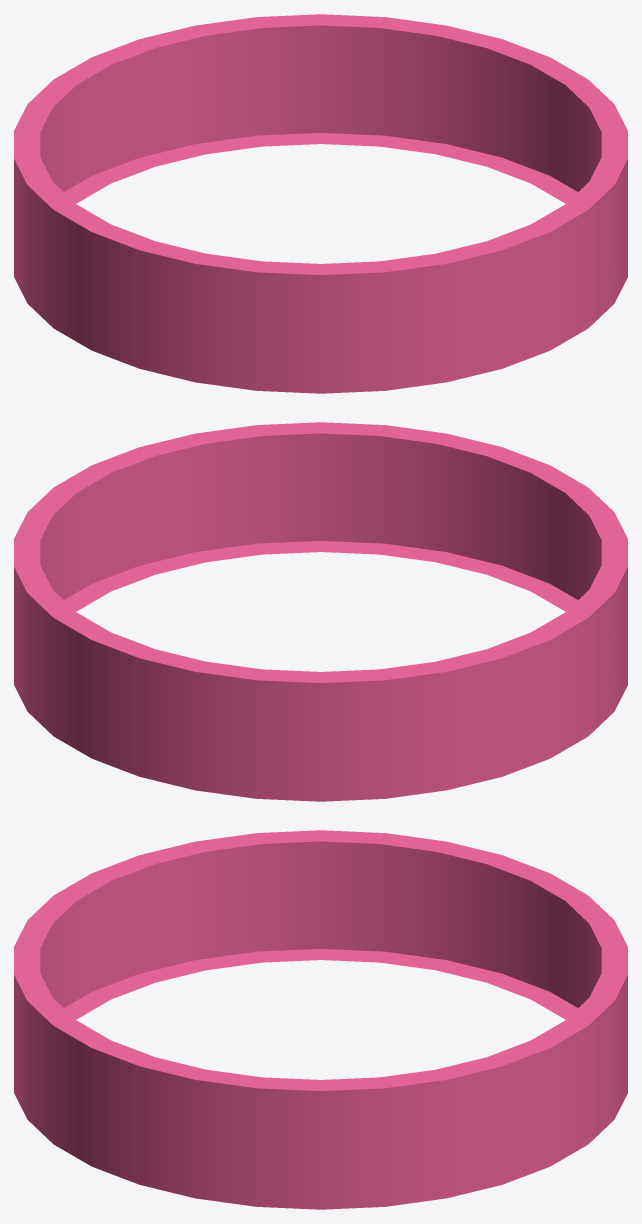
Rendered from Cake_Sml_itemsSide_Ribbon-A.FBX.
The picture shows the model from 3 angles, top to bottom: view 1: azimuth 30°, elevation 25°; view 2: azimuth 150°, elevation 25°; view 3: azimuth 270°, elevation 25°; orthographic projection.
Visible parts, largest first — view 1: Cake_Sml_itemsSide_Ribbon-A; view 2: Cake_Sml_itemsSide_Ribbon-A; view 3: Cake_Sml_itemsSide_Ribbon-A.
Boxes of the visible parts, x1,y1,x2,y2 form: Cake_Sml_itemsSide_Ribbon-A: [14, 14, 627, 393]; Cake_Sml_itemsSide_Ribbon-A: [14, 422, 627, 801]; Cake_Sml_itemsSide_Ribbon-A: [14, 830, 627, 1209].
Size of the model in its own units: 5087 by 1078 by 5059.
